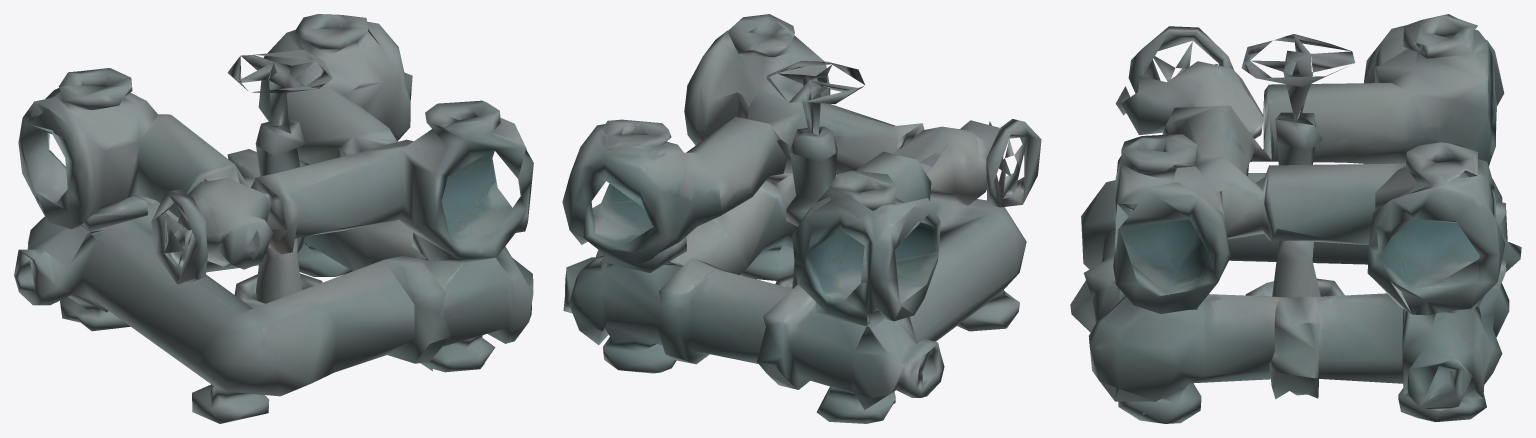
3 renders of one model, left to right at view 1: azimuth 30°, elevation 25°; view 2: azimuth 150°, elevation 25°; view 3: azimuth 270°, elevation 25°, orthographic. The views are drawn at different scales.
Bounding box in the file's own units: 1.9 × 1.36 × 1.84.
1 material, 1 textured.
